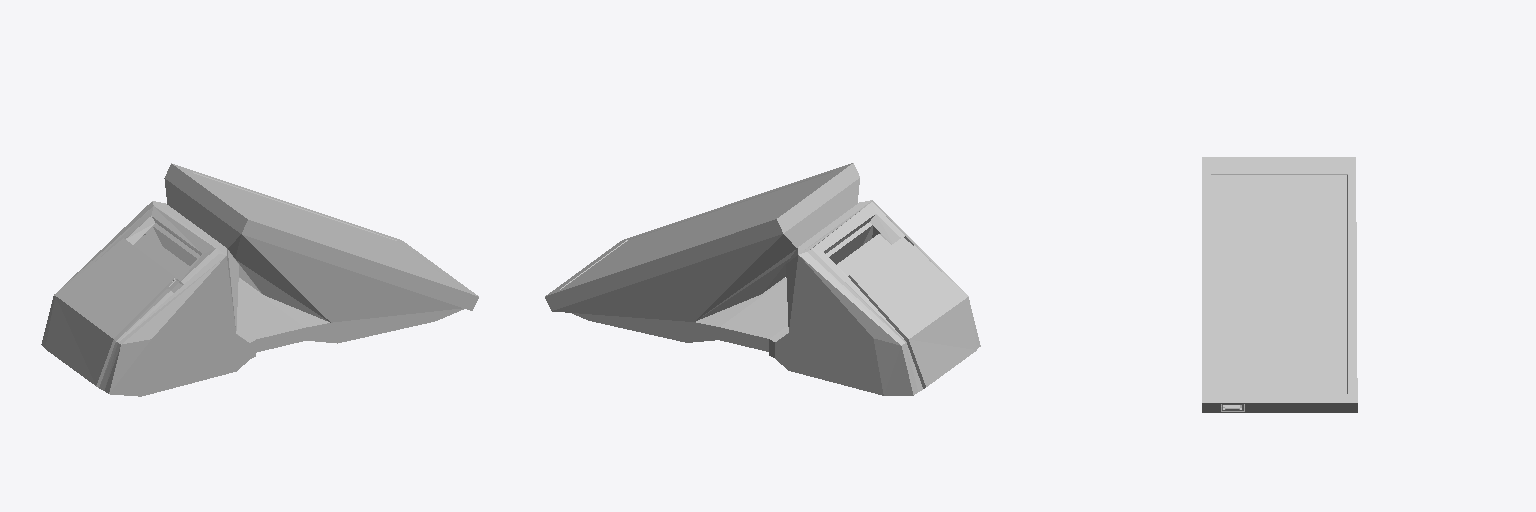
Rendered from cashscanner.obj.
The picture shows the model from 3 angles: view 1: azimuth 30°, elevation 25°; view 2: azimuth 150°, elevation 25°; view 3: azimuth 270°, elevation 25°; orthographic projection.
Parts seen in each view (by area): view 1: Фискальник, Терминал, Экран; view 2: Фискальник, Терминал, Экран; view 3: Экран, Терминал.
Part boxes in pixels (left/top/right/bottom): Фискальник: left=41, top=201, right=255, bottom=396; Терминал: left=164, top=163, right=478, bottom=352; Экран: left=195, top=174, right=462, bottom=289; Фискальник: left=769, top=200, right=980, bottom=395; Терминал: left=545, top=163, right=859, bottom=351; Экран: left=562, top=173, right=829, bottom=288; Экран: left=1211, top=175, right=1346, bottom=393; Терминал: left=1202, top=157, right=1357, bottom=412.
Size of the model in its own units: 27.72 by 10.94 by 10.1.